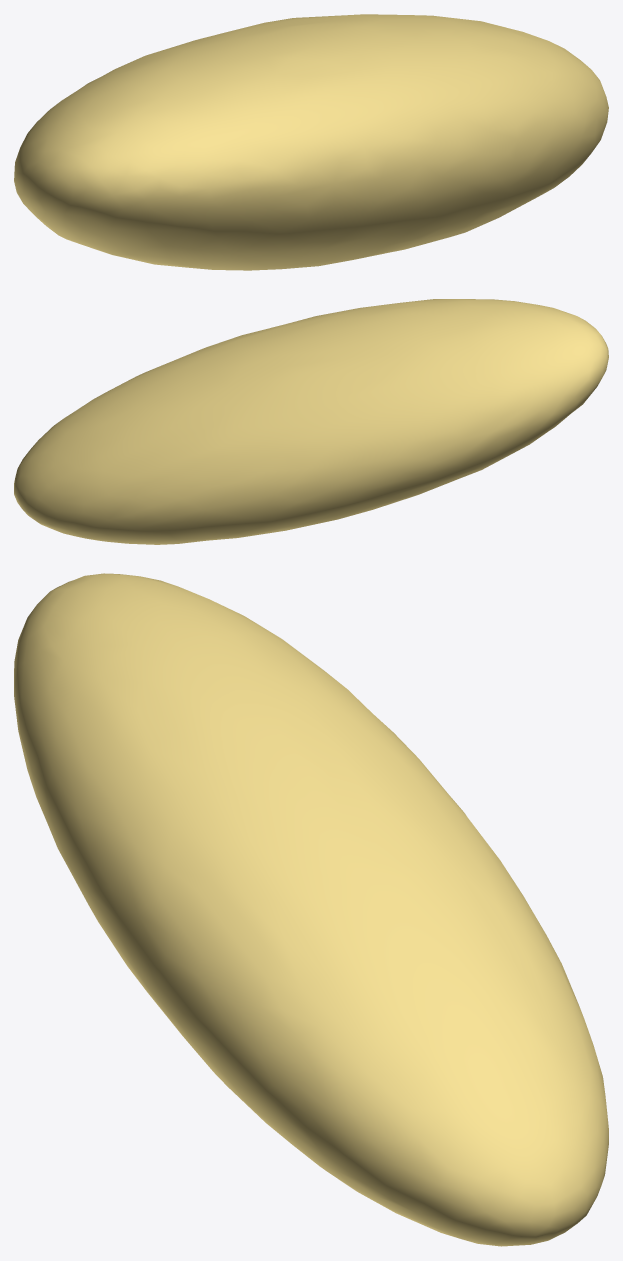
File: fma73332_fj7515m.glb
3 renders of one model, top to bottom at view 1: azimuth 30°, elevation 25°; view 2: azimuth 150°, elevation 25°; view 3: azimuth 270°, elevation 25°, orthographic. The views are drawn at different scales.
Parts seen in each view (by area): view 1: FMA73332_FJ7515M; view 2: FMA73332_FJ7515M; view 3: FMA73332_FJ7515M.
Boxes of the visible parts, left/top/right/bottom form: FMA73332_FJ7515M: left=14, top=14, right=608, bottom=270; FMA73332_FJ7515M: left=14, top=299, right=608, bottom=544; FMA73332_FJ7515M: left=14, top=573, right=608, bottom=1246.
Size of the model in its own units: 0.00541 by 0.00232 by 0.0035.
